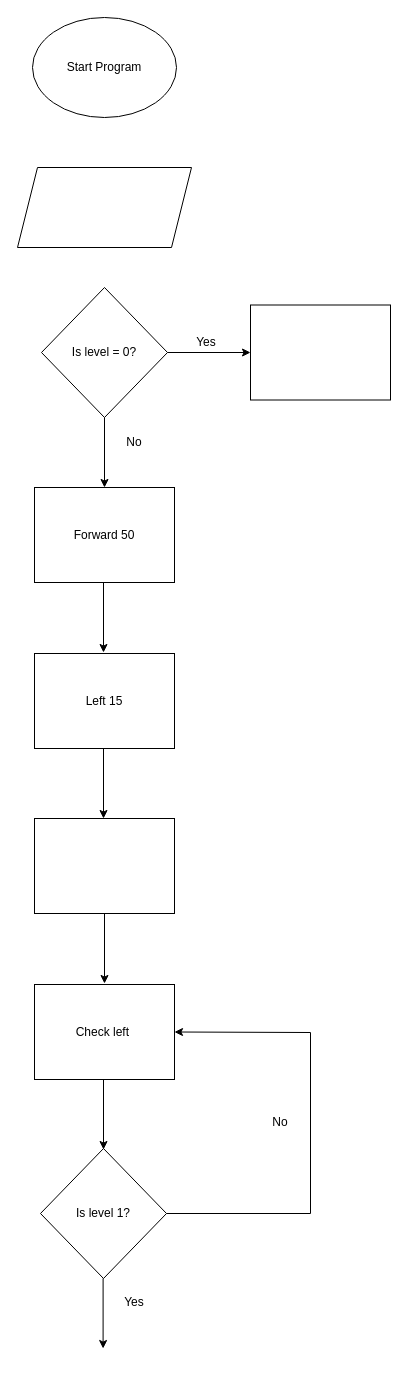
This 408x1374 diagram has some shape labels left out. Here are the shapes that lost their labels. From the top down, the centre of each, then its label:
pixel 104 207: Ask user for the level of the tree
pixel 320 352: Return
pixel 104 866: Simpletree level-1 (left trees)
